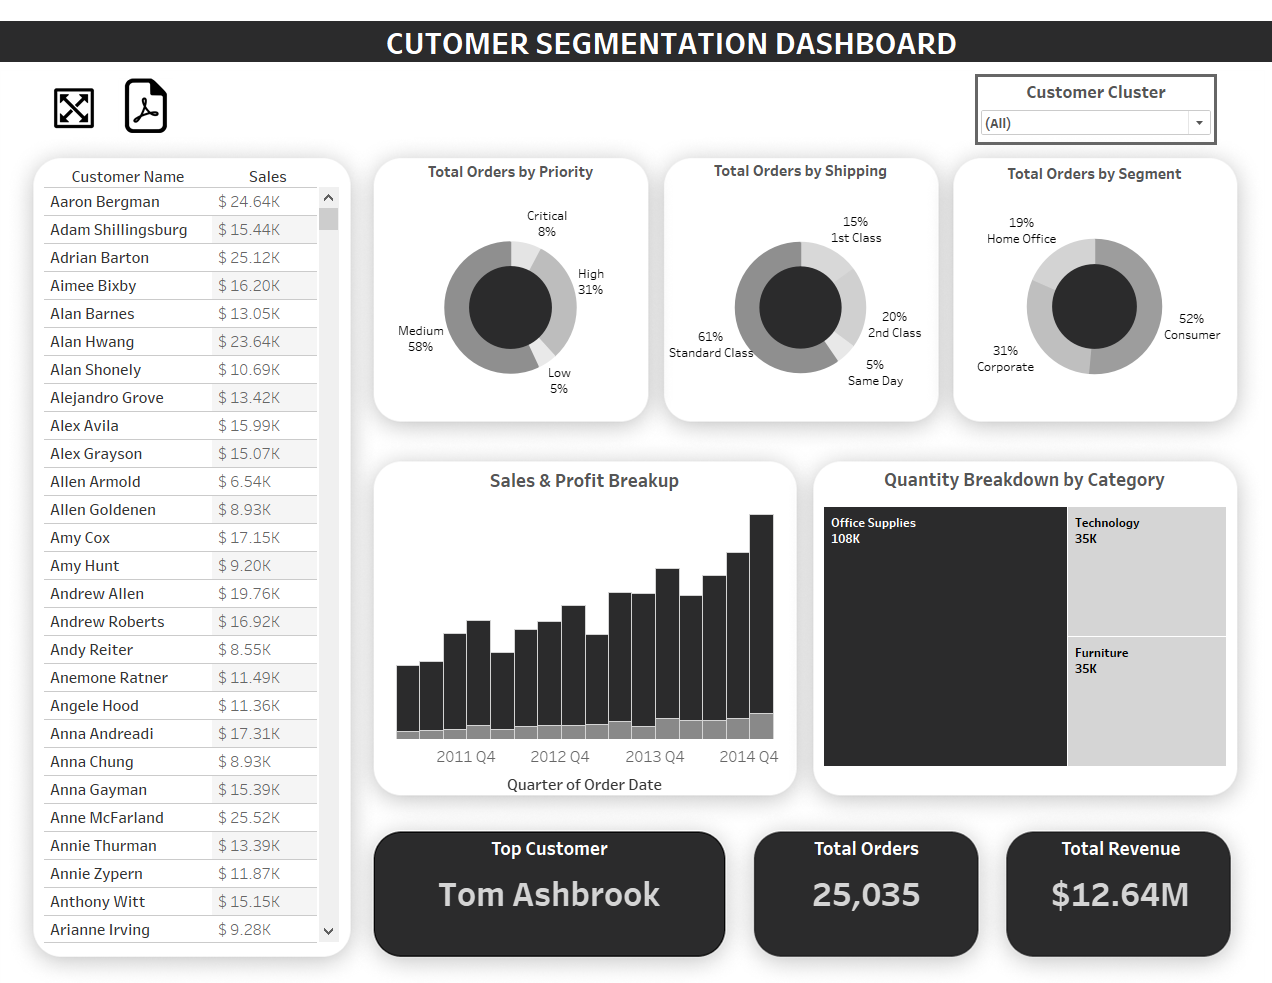

What the dashboard file says about the page in this screenshot:
{"tool":"tableau","page":{"name":"Customer Analysis Dashboard","canvas":[1367,1007],"ordinal":0},"visuals":[{"type":"title","box":[8,8,1351,49]},{"type":"image","param":"E:/DataAnalytics/Python/Portfolio datasets/Customer Segmentation/CustomerSegment","box":[8,57,1351,942]},{"type":"dashboard-object","box":[63,63,45,72]},{"type":"filter","title":"Quantity Breakdown by Category","param":"[federated.1qnuz3q0zn1xx11gxllty1ndcbgw].[none:Kmeans_Cluster:nk]","box":[987,65,242,71]},{"type":"dashboard-object","box":[118,69,79,55]},{"type":"worksheet","title":"Full Order Details","mark":"Automatic","rows":["CustomerName","Segment","Calculation_944067097583546368","Quantity","Sales"],"box":[41,141,668,812]},{"type":"worksheet","title":"Total Orders by Shipping Mode","mark":"Pie","rows":["Calculation_944067097598013442","Calculation_944067097598038020"],"box":[681,147,263,267]},{"type":"worksheet","title":"Total Orders by Priority","mark":"Pie","rows":["Calculation_944067097598013442","Calculation_944067097598038020"],"box":[390,148,265,265]},{"type":"worksheet","title":"Total Orders by Segment","mark":"Pie","rows":["Calculation_944067097598013442","Calculation_944067097598038020"],"box":[971,150,271,259]},{"type":"worksheet","title":"Mini Details","mark":"Automatic","rows":["CustomerName","Sales"],"box":[56,158,295,776]},{"type":"worksheet","title":"Quantity Breakdown by Category","mark":"Automatic","box":[831,453,411,322]},{"type":"worksheet","title":"Sales & Profit Breakup","mark":"Line","rows":["Sales","Profit"],"cols":["OrderDate"],"box":[389,454,415,339]},{"type":"worksheet","title":"Top Customer","mark":"Automatic","box":[404,822,316,125]},{"type":"worksheet","title":"Total Orders Placed","mark":"Automatic","box":[790,822,177,126]},{"type":"worksheet","title":"Total Revenue","mark":"Automatic","box":[1048,822,171,126]}]}

Visuals, with their boxes on the page's 1367x1007 design canvas (x1, y1, x2, y2). These are canvas units, not pixel positions in the 1272x983 screenshot, which may show the page scaled, cropped or inside an application window:
title: bbox=[8, 8, 1359, 57]
image: bbox=[8, 57, 1359, 999]
dashboard-object: bbox=[63, 63, 108, 135]
"Quantity Breakdown by Category" filter: bbox=[987, 65, 1229, 136]
dashboard-object: bbox=[118, 69, 197, 124]
"Full Order Details" worksheet: bbox=[41, 141, 709, 953]
"Total Orders by Shipping Mode" worksheet (Pie marks): bbox=[681, 147, 944, 414]
"Total Orders by Priority" worksheet (Pie marks): bbox=[390, 148, 655, 413]
"Total Orders by Segment" worksheet (Pie marks): bbox=[971, 150, 1242, 409]
"Mini Details" worksheet: bbox=[56, 158, 351, 934]
"Quantity Breakdown by Category" worksheet: bbox=[831, 453, 1242, 775]
"Sales & Profit Breakup" worksheet (Line marks): bbox=[389, 454, 804, 793]
"Top Customer" worksheet: bbox=[404, 822, 720, 947]
"Total Orders Placed" worksheet: bbox=[790, 822, 967, 948]
"Total Revenue" worksheet: bbox=[1048, 822, 1219, 948]
